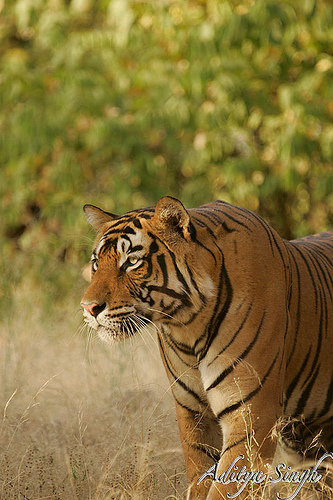Tigre: (76, 192, 326, 447)
